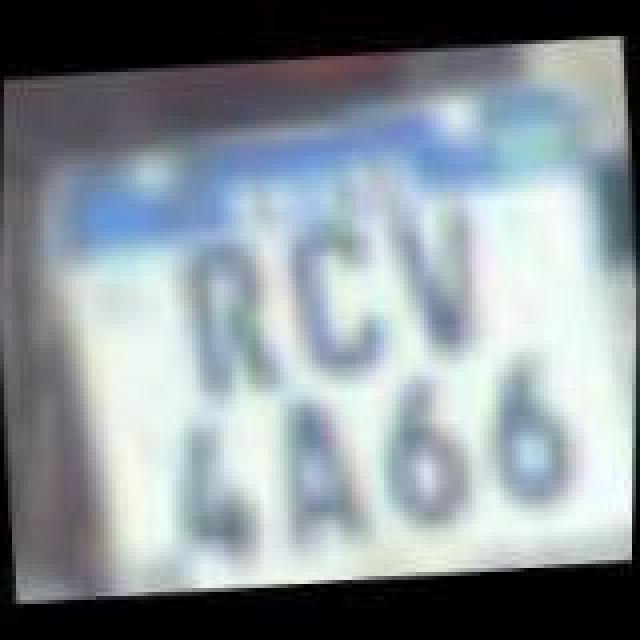4: (162, 410, 270, 562)
6: (374, 372, 482, 528), (480, 356, 584, 516)
A: (272, 390, 376, 554)
C: (280, 216, 388, 376)
R: (176, 238, 284, 406)
V: (384, 196, 492, 360)
